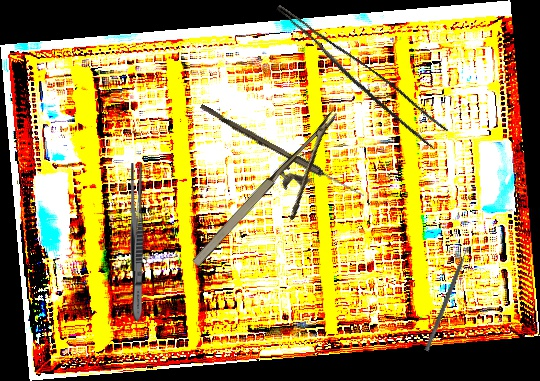Dressing Forceps: (127, 162, 146, 322)
Needle Holder: (187, 109, 368, 291)
Spatula Surgical: (424, 242, 475, 354)
Surgical Spoon: (197, 103, 367, 200)
Tissue Forceps: (262, 4, 452, 150)
